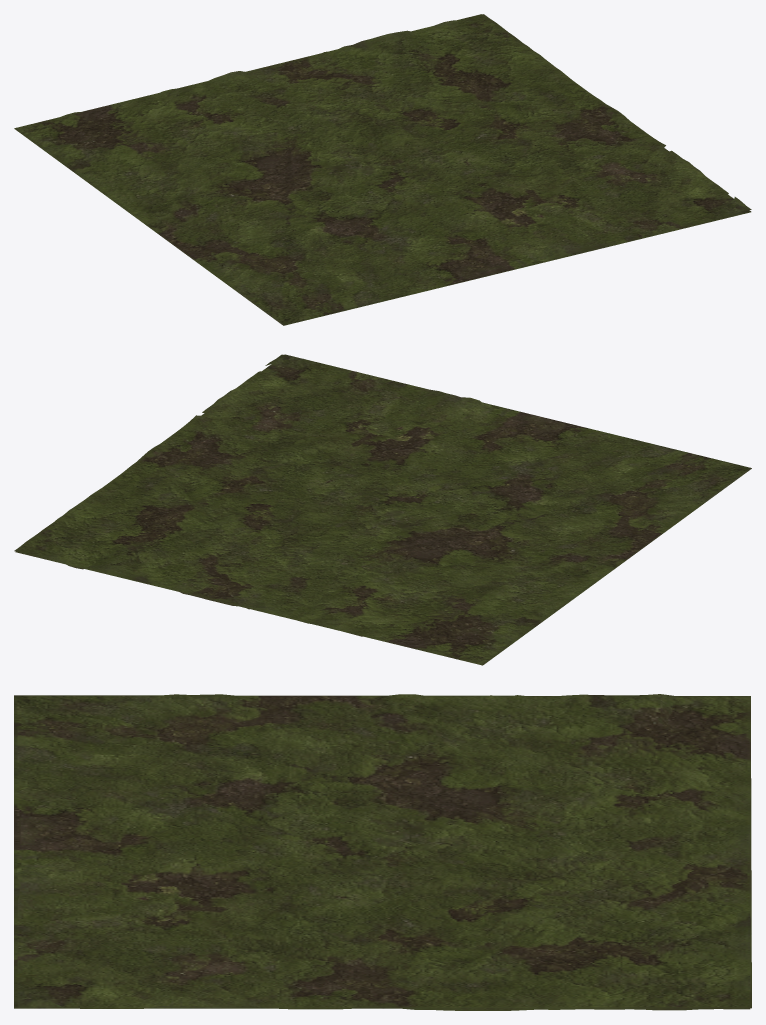
The model's file is moss.glb.
The picture shows the model from 3 angles, top to bottom: view 1: azimuth 30°, elevation 25°; view 2: azimuth 150°, elevation 25°; view 3: azimuth 270°, elevation 25°; orthographic projection. The views are drawn at different scales.
Bounding box in the file's own units: 0.9609 × 0.0122 × 0.9551.
Materials: 1 (1 with a texture image).
